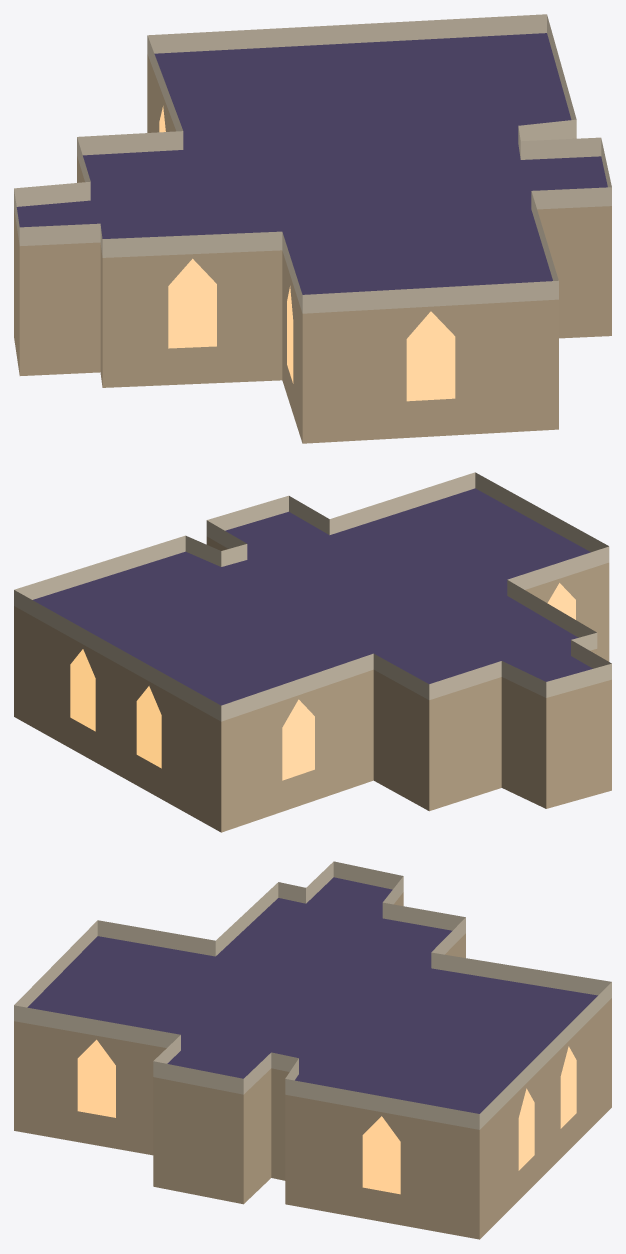
3 views of the same model, one above another, from view 1: azimuth 30°, elevation 25°; view 2: azimuth 150°, elevation 25°; view 3: azimuth 270°, elevation 25° (orthographic). The views are drawn at different scales.
Visible parts, largest first — view 1: campus/b-083-0; view 2: campus/b-083-0; view 3: campus/b-083-0.
Part boxes in pixels (box(x1,y1,x2,y2)): campus/b-083-0: box(14, 14, 611, 443); campus/b-083-0: box(14, 472, 611, 832); campus/b-083-0: box(14, 861, 611, 1239).
Bounding box in the file's own units: 18.78 × 4.35 × 18.78.
